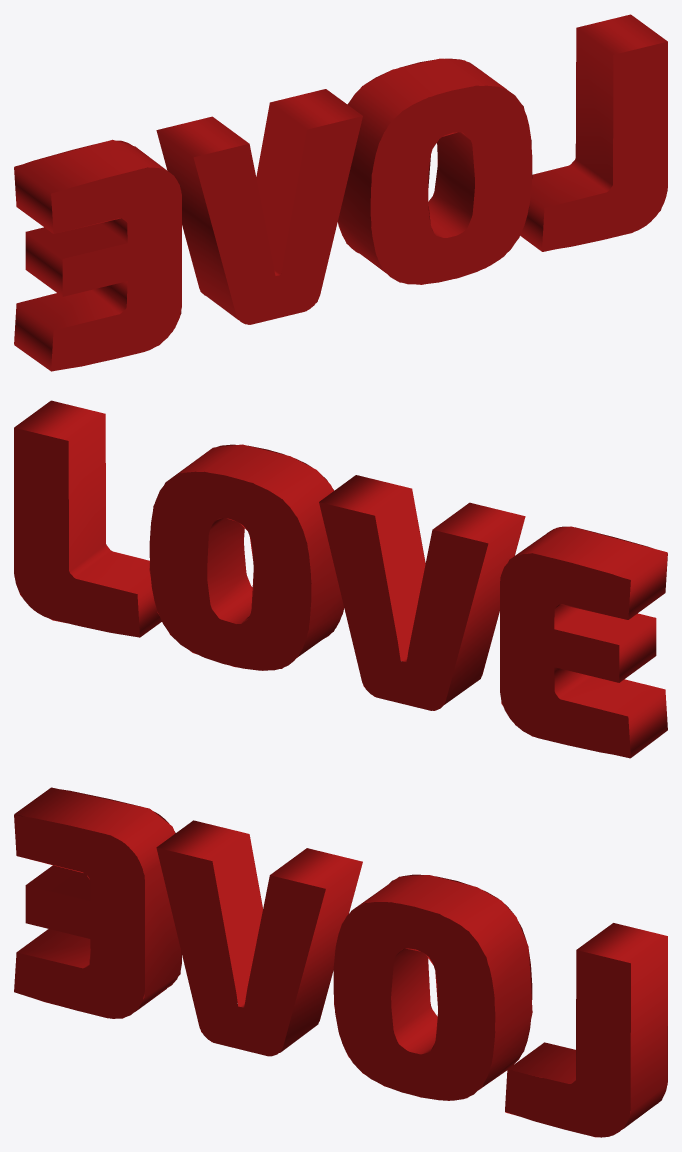
File: love.fbx
The picture shows the model from 3 angles, top to bottom: view 1: azimuth 30°, elevation 25°; view 2: azimuth 150°, elevation 25°; view 3: azimuth 330°, elevation 25°; orthographic projection.
Visible parts, largest first — view 1: Text; view 2: Text; view 3: Text.
Part boxes in pixels (x1,y1,x2,y2): Text: (14, 14, 667, 371); Text: (14, 400, 667, 758); Text: (14, 787, 667, 1137).
Size of the model in its own units: 7.68 by 2.25 by 0.8.
